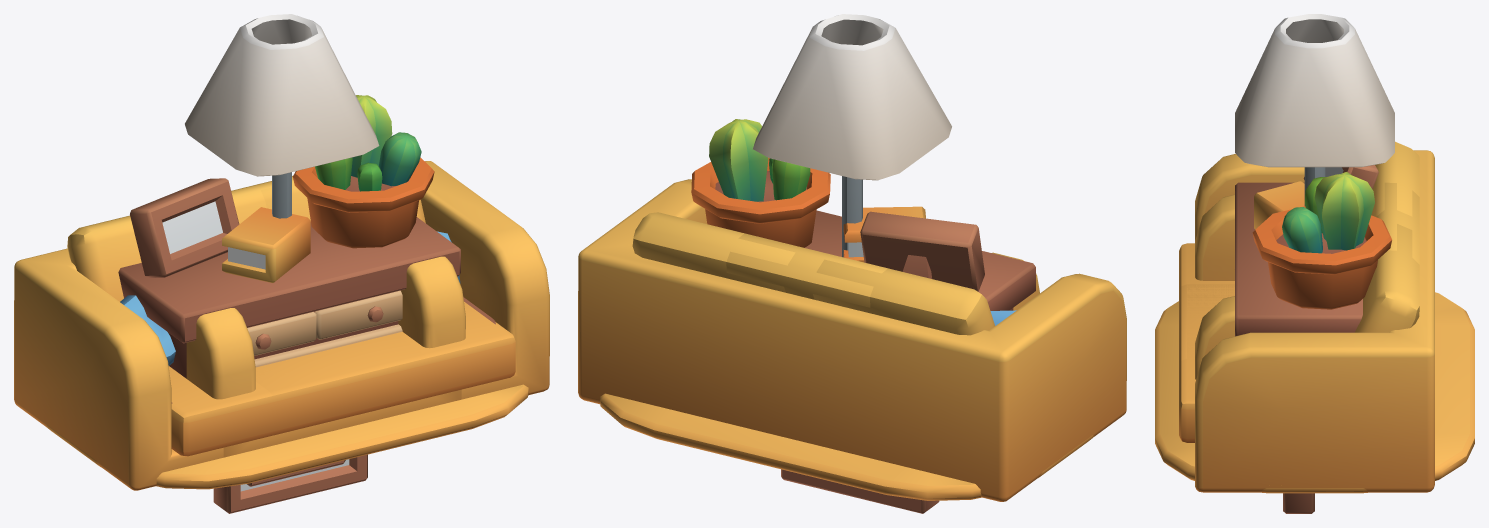
The model's file is furniture.glb.
The picture shows the model from 3 angles, left to right: view 1: azimuth 30°, elevation 25°; view 2: azimuth 150°, elevation 25°; view 3: azimuth 270°, elevation 25°; orthographic projection. The views are drawn at different scales.
Parts seen in each view (by area): view 1: couch_pillows, cabinet_medium_decorated, lamp_standing, armchair_pillows, rug_oval_A, pictureframe_large_A; view 2: couch_pillows, lamp_standing, cabinet_medium_decorated, rug_oval_A, armchair_pillows, pictureframe_large_A; view 3: couch_pillows, cabinet_medium_decorated, lamp_standing, rug_oval_A, armchair_pillows, pictureframe_large_A.
Boxes of the visible parts, left/top/right/bottom form: couch_pillows: left=14, top=161, right=549, bottom=490; cabinet_medium_decorated: left=118, top=95, right=460, bottom=378; lamp_standing: left=185, top=14, right=379, bottom=218; armchair_pillows: left=186, top=177, right=465, bottom=457; rug_oval_A: left=46, top=384, right=528, bottom=489; pictureframe_large_A: left=213, top=454, right=367, bottom=513; couch_pillows: left=578, top=179, right=1126, bottom=501; lamp_standing: left=753, top=14, right=951, bottom=257; cabinet_medium_decorated: left=691, top=119, right=1035, bottom=310; rug_oval_A: left=600, top=393, right=1093, bottom=500; armchair_pillows: left=669, top=233, right=1039, bottom=336; pictureframe_large_A: left=781, top=469, right=939, bottom=513; couch_pillows: left=1179, top=141, right=1434, bottom=492; cabinet_medium_decorated: left=1235, top=165, right=1391, bottom=336; lamp_standing: left=1235, top=14, right=1394, bottom=205; rug_oval_A: left=1155, top=292, right=1474, bottom=493; armchair_pillows: left=1181, top=182, right=1433, bottom=379; pictureframe_large_A: left=1283, top=493, right=1314, bottom=513.
Bounding box in the file's own units: 3 × 3.12 × 2.
Materials: 1 (1 with a texture image).
